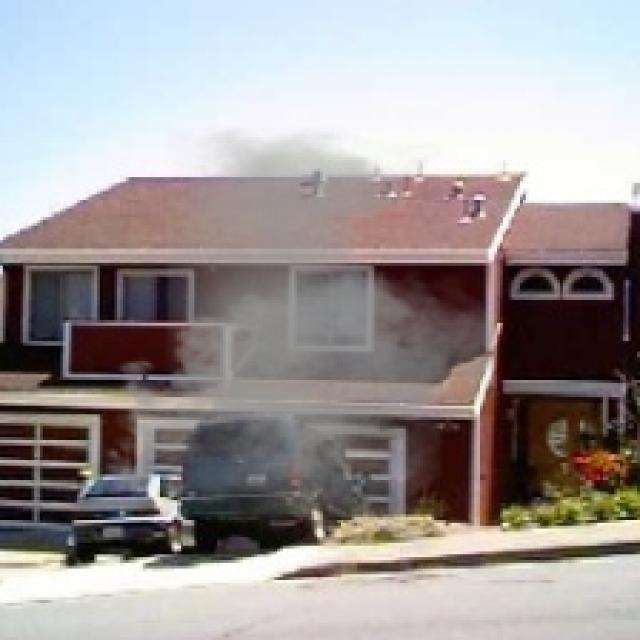smoke: (92, 126, 517, 551)
